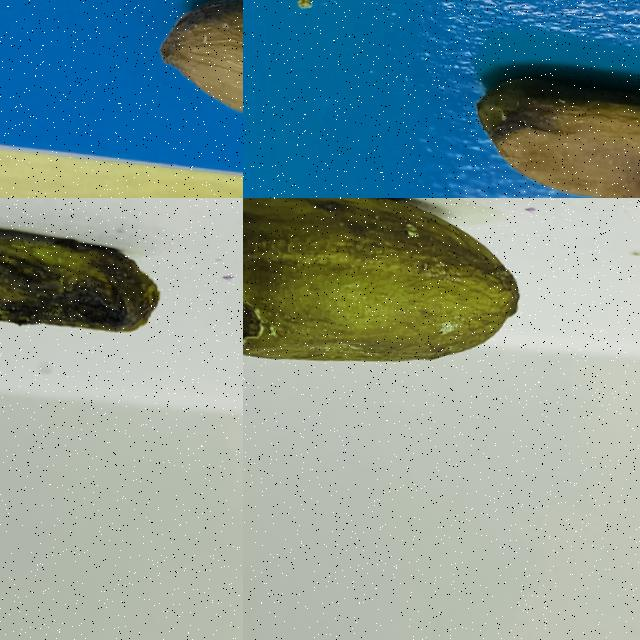Fine_cocoabeans: (243, 198, 530, 377), (119, 0, 242, 165)
Flat_cocoabeans: (412, 31, 639, 197), (0, 198, 196, 365)
